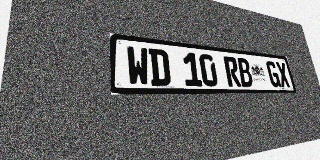0: (198, 54, 218, 87)
1: (182, 52, 203, 86)
B: (236, 58, 254, 87)
D: (148, 48, 171, 86)
G: (265, 61, 281, 87)
R: (223, 56, 242, 87)
W: (126, 46, 150, 86)
X: (275, 62, 291, 87)
